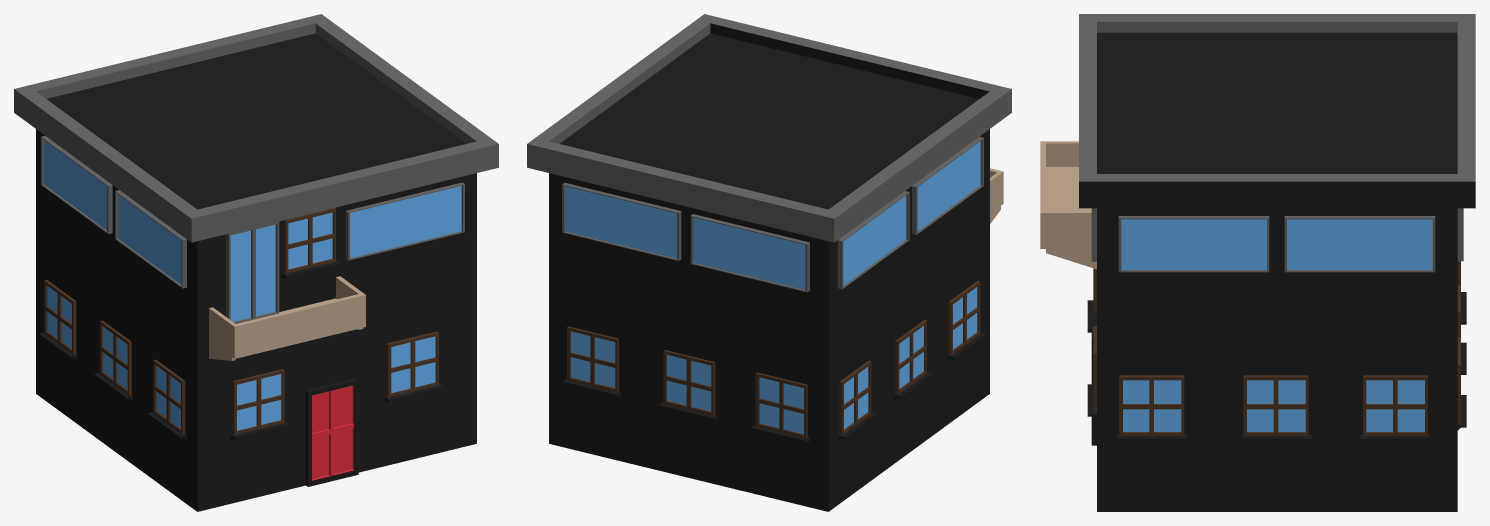
Rendered from cityasset_house_4.fbx.
3 renders of one model, left to right at view 1: azimuth 30°, elevation 25°; view 2: azimuth 150°, elevation 25°; view 3: azimuth 270°, elevation 25°, orthographic. The views are drawn at different scales.
Parts seen in each view (by area): view 1: Cube.001, Cube.003, Cube.005, Cube.002, Cube.004, Cube.016, Cube.017, Cube.019, Cube.018, Cube.011, Cube.026, Cube.028 (+1 smaller); view 2: Cube.001, Cube.015, Cube.014, Cube.016, Cube.017, Cube.024, Cube.025, Cube.023, Cube.026, Cube.028, Cube.027, Cube.003; view 3: Cube.001, Cube.012, Cube.013, Cube.003, Cube.021, Cube.020, Cube.022, Cube.019, Cube.023.
Part boxes in pixels (left/top/right/bottom): Cube.001: left=14, top=14, right=498, bottom=511; Cube.003: left=209, top=276, right=365, bottom=360; Cube.005: left=345, top=182, right=464, bottom=260; Cube.002: left=305, top=378, right=358, bottom=486; Cube.004: left=225, top=221, right=279, bottom=323; Cube.016: left=40, top=135, right=112, bottom=234; Cube.017: left=115, top=190, right=186, bottom=288; Cube.019: left=384, top=331, right=443, bottom=402; Cube.018: left=230, top=369, right=289, bottom=439; Cube.011: left=282, top=208, right=340, bottom=278; Cube.026: left=38, top=279, right=77, bottom=360; Cube.028: left=147, top=359, right=186, bottom=439; Cube.001: left=527, top=14, right=1011, bottom=511; Cube.015: left=690, top=214, right=809, bottom=292; Cube.014: left=562, top=182, right=681, bottom=261; Cube.016: left=837, top=191, right=909, bottom=289; Cube.017: left=912, top=136, right=983, bottom=235; Cube.024: left=658, top=350, right=717, bottom=420; Cube.025: left=751, top=372, right=809, bottom=443; Cube.023: left=562, top=326, right=621, bottom=397; Cube.026: left=838, top=360, right=877, bottom=440; Cube.028: left=947, top=280, right=986, bottom=360; Cube.027: left=894, top=320, right=932, bottom=399; Cube.003: left=990, top=168, right=1003, bottom=223; Cube.001: left=1079, top=14, right=1475, bottom=511; Cube.012: left=1118, top=216, right=1269, bottom=272; Cube.013: left=1284, top=216, right=1435, bottom=272; Cube.003: left=1040, top=141, right=1096, bottom=269; Cube.021: left=1240, top=375, right=1311, bottom=440; Cube.020: left=1116, top=375, right=1187, bottom=440; Cube.022: left=1360, top=375, right=1430, bottom=440; Cube.019: left=1087, top=326, right=1096, bottom=419; Cube.023: left=1457, top=337, right=1466, bottom=430.
Size of the model in its own units: 220 by 207 by 242.
